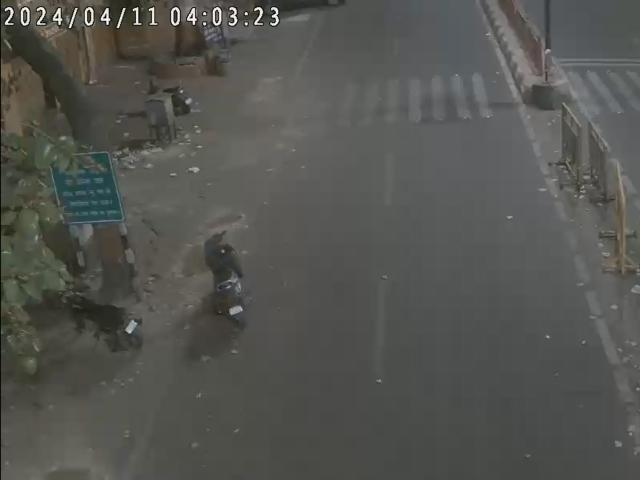motorbike: (60, 282, 143, 354)
scooty: (200, 226, 250, 330)
